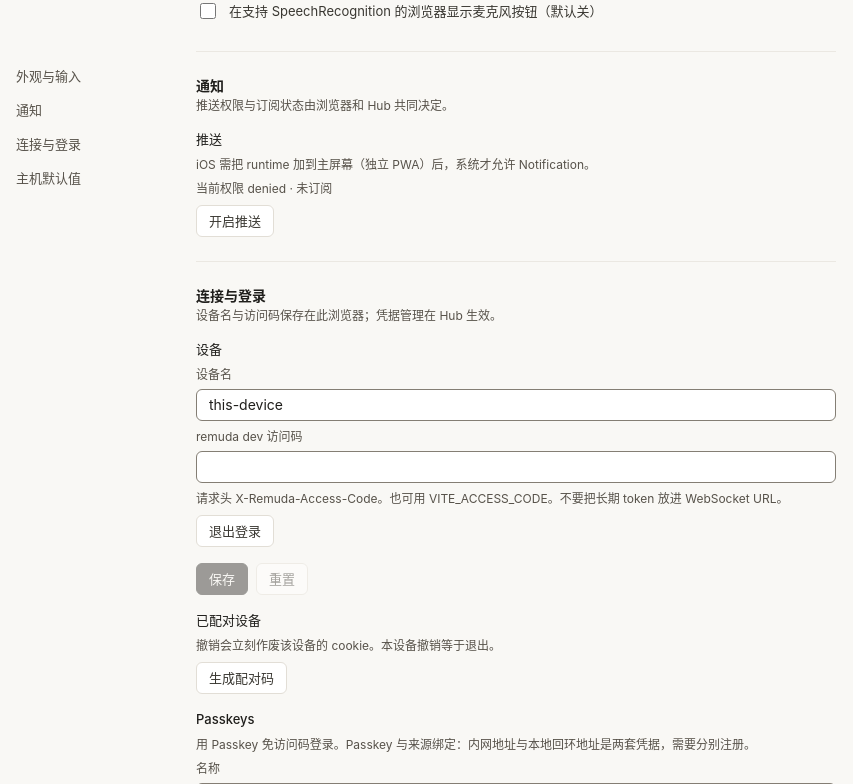
Test: save states and rollback › reset discards an unsaved identity draft and the pending status
(page scrolled)
Replace the text in the field with test id "settings-device-name" with "desk-9" at (516, 405), box x1=196 y1=389 x2=836 y2=421
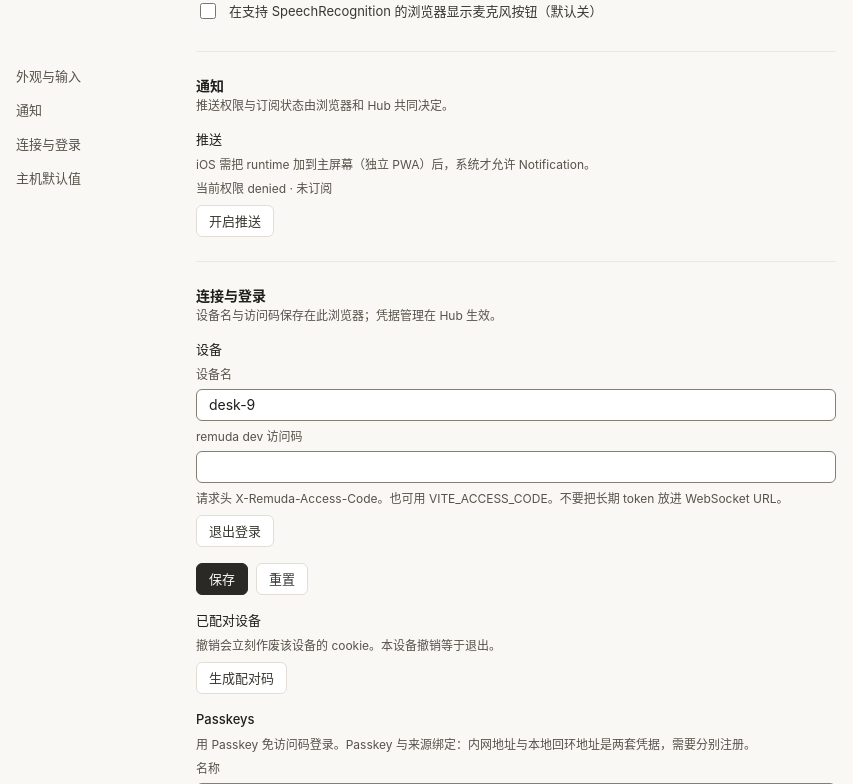
Expected: the button with test id "settings-identity-save" is enabled, x1=196 y1=563 x2=248 y2=595
Click the button with test id "settings-identity-reset" at (282, 579), box x1=256 y1=563 x2=308 y2=595
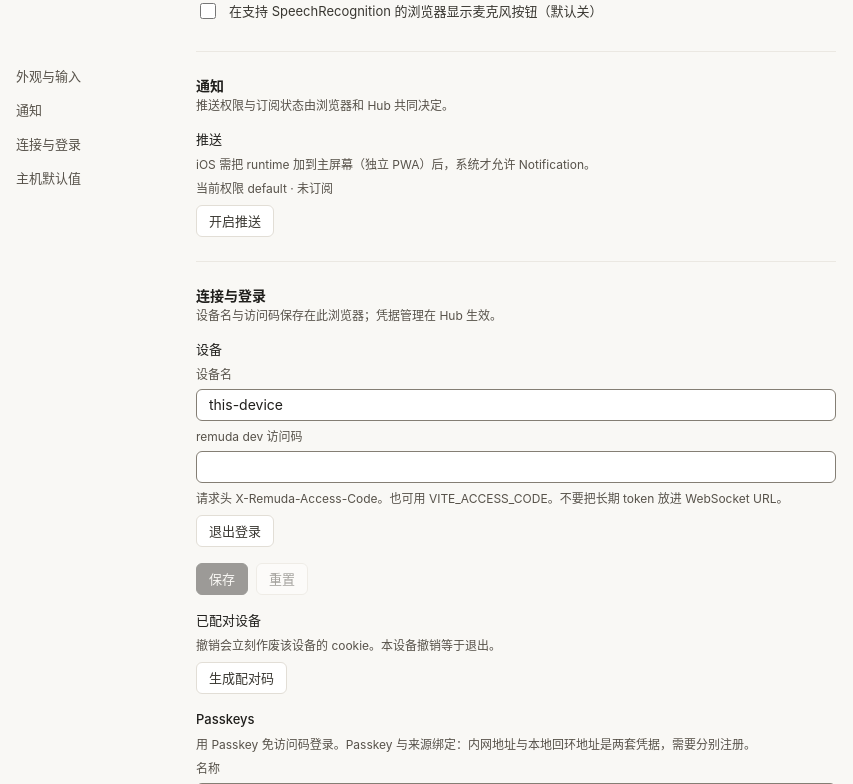
Expected: the field with test id "settings-device-name" holds "this-device", x1=196 y1=389 x2=836 y2=421
Expected: the button with test id "settings-identity-save" is disabled, x1=196 y1=563 x2=248 y2=595
